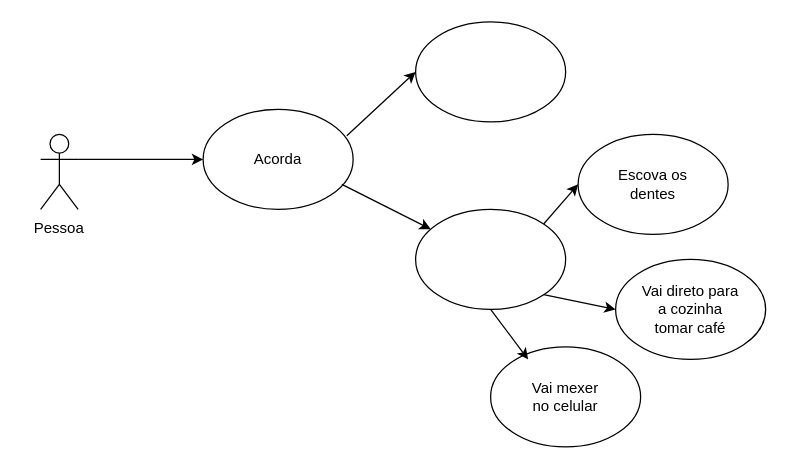
The diagram is 788 pixels wide and 469 high, and some of its shapes have lost their labels. Here are the shapes that lost their labels. From the top down, the centre of each, then its label:
the point at 490,71: Dorme de novo
the point at 490,258: Levanta
